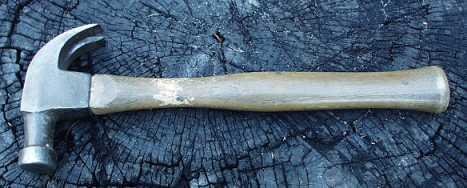hammer: (15, 20, 452, 175)
